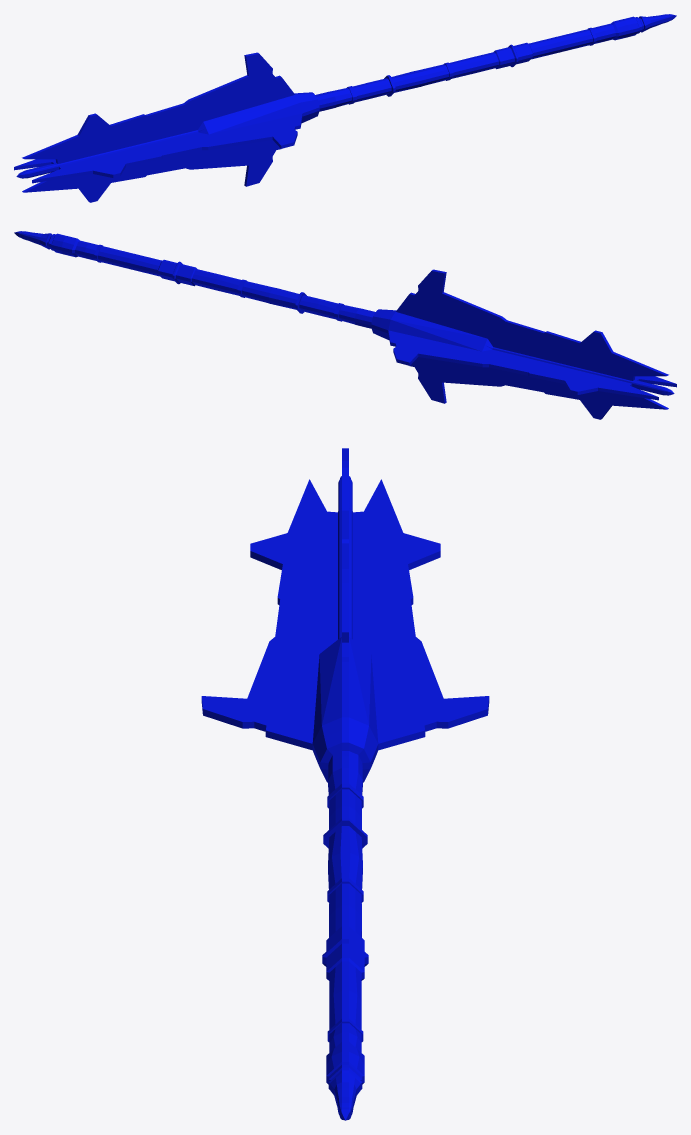
Rendered from メイス11.fbx.
3 views of the same model, one above another, from view 1: azimuth 30°, elevation 25°; view 2: azimuth 150°, elevation 25°; view 3: azimuth 270°, elevation 25° (orthographic). The views are drawn at different scales.
Visible parts, largest first — view 1: 平面.001; view 2: 平面.001; view 3: 平面.001.
Part boxes in pixels (x1,y1,x2,y2): 平面.001: (14,14,676,202); 平面.001: (14,231,676,419); 平面.001: (201,448,489,1120).
Size of the model in its own units: 4.19 by 0.79 by 0.79.
